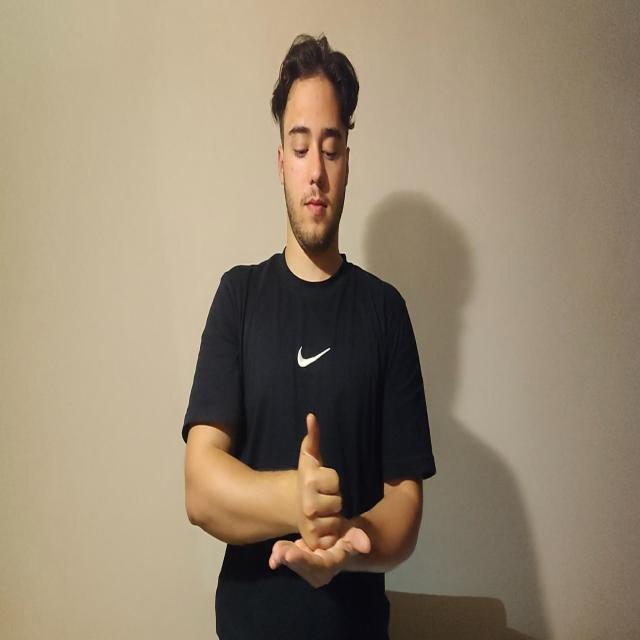help: (270, 412, 373, 584)
